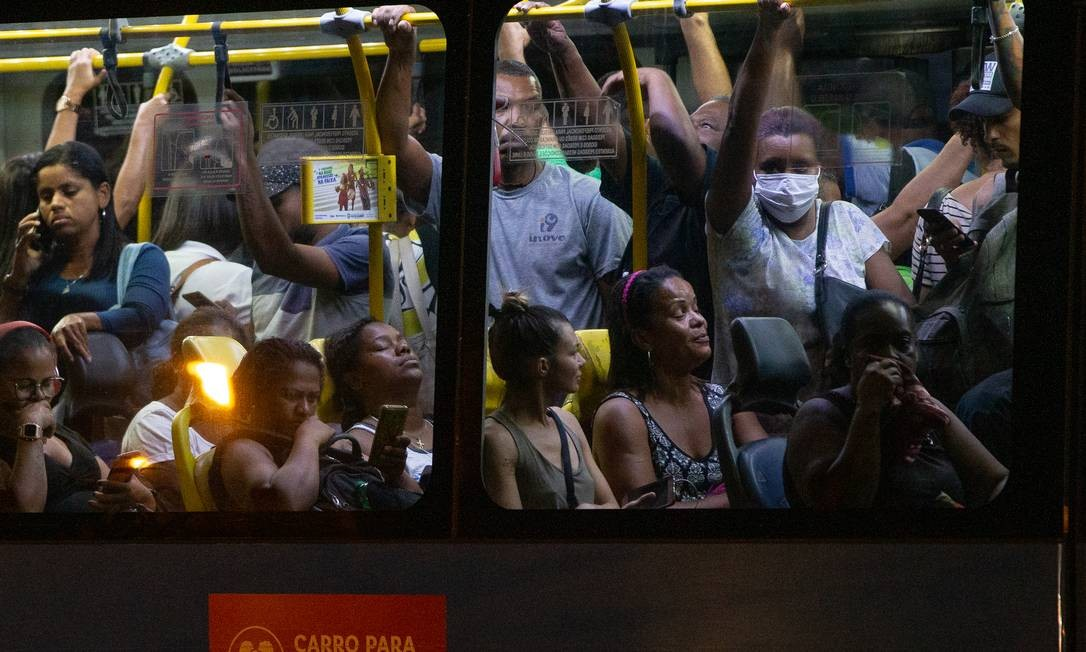with_mask: (746, 139, 833, 222)
without_mask: (630, 286, 717, 364), (471, 83, 549, 167), (344, 326, 430, 389), (531, 333, 591, 399), (35, 169, 99, 229), (261, 376, 323, 430)
